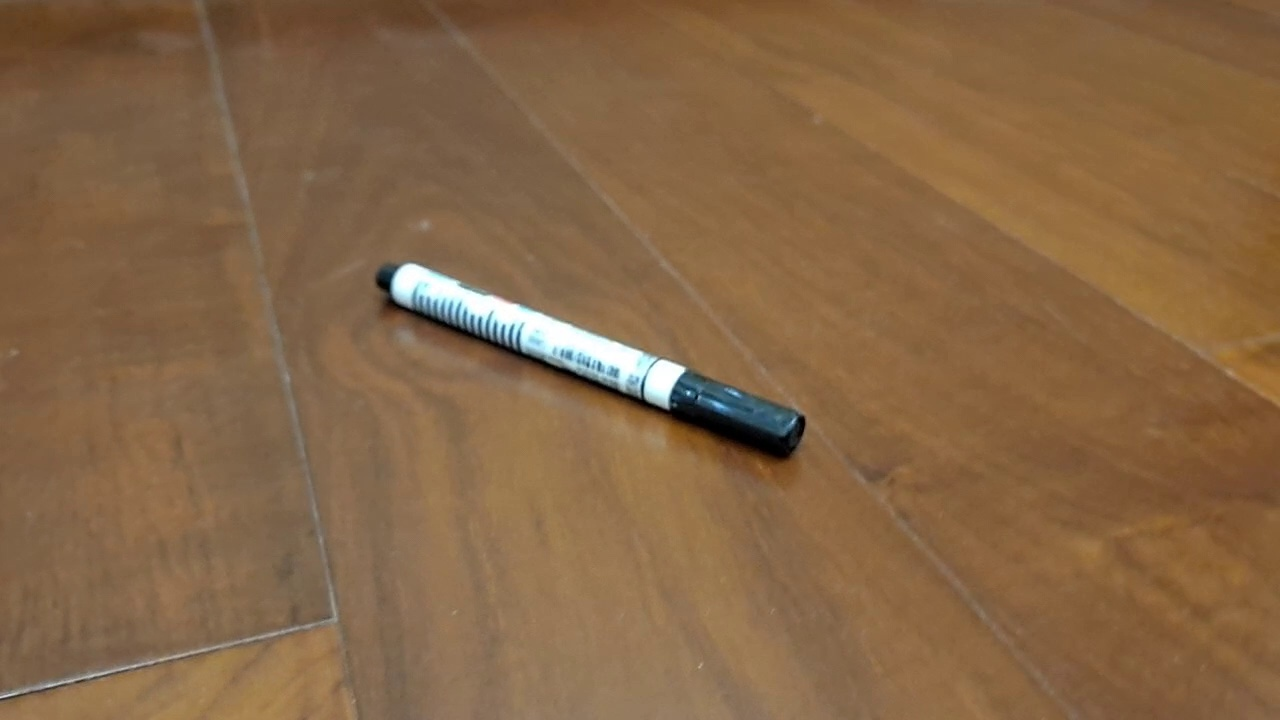pen: (375, 261, 807, 459)
